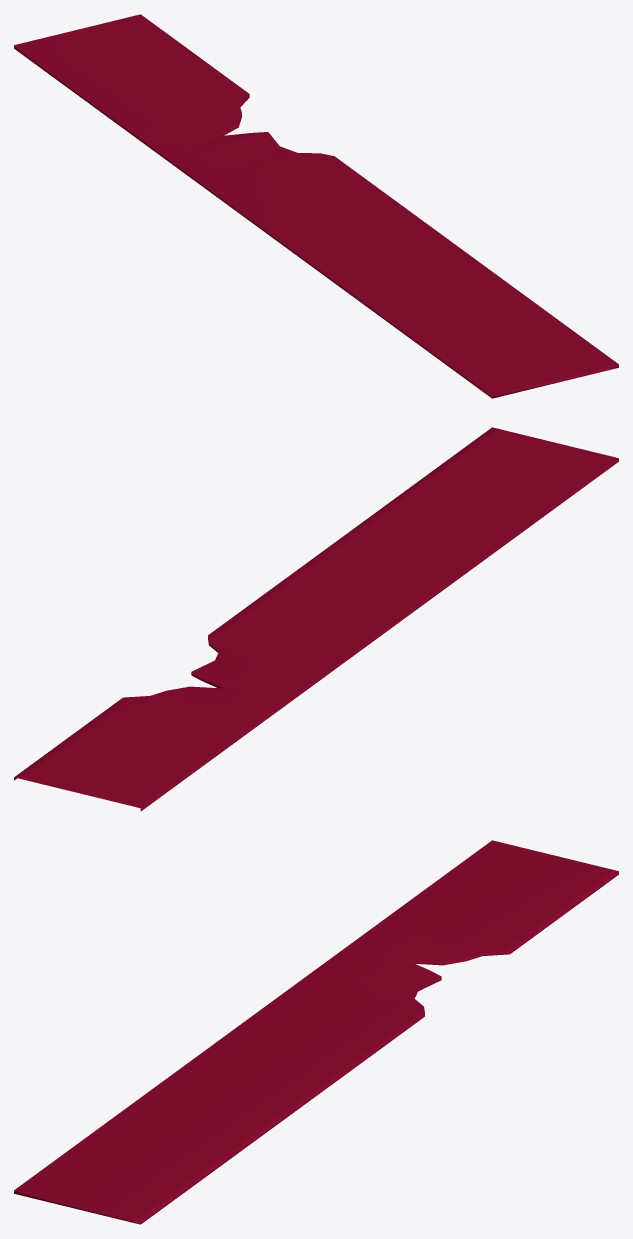
File: Cathedral_Carpet2.fbx
The picture shows the model from 3 angles, top to bottom: view 1: azimuth 30°, elevation 25°; view 2: azimuth 150°, elevation 25°; view 3: azimuth 330°, elevation 25°; orthographic projection.
Visible parts, largest first — view 1: Carpet2; view 2: Carpet2; view 3: Carpet2.
Part boxes in pixels (<box>): Carpet2: <box>14,14,618,398</box>; Carpet2: <box>14,427,618,811</box>; Carpet2: <box>14,840,618,1224</box>.
Bounding box in the file's own units: 506 × 12.9 × 3308.
